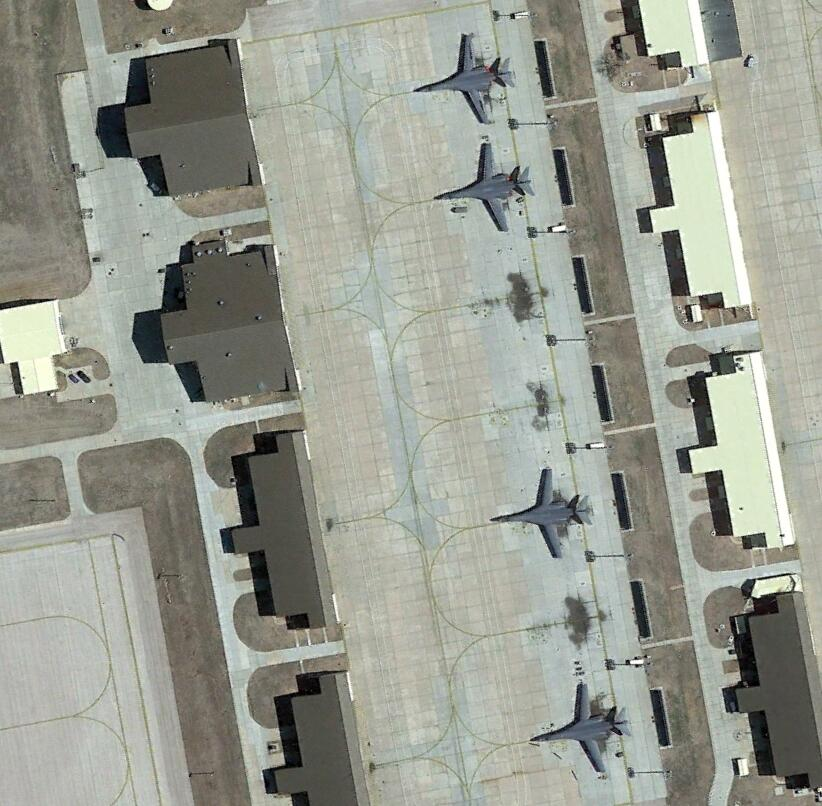A10: (408, 33, 520, 127), (492, 464, 598, 561), (430, 140, 536, 236), (530, 680, 632, 776)
